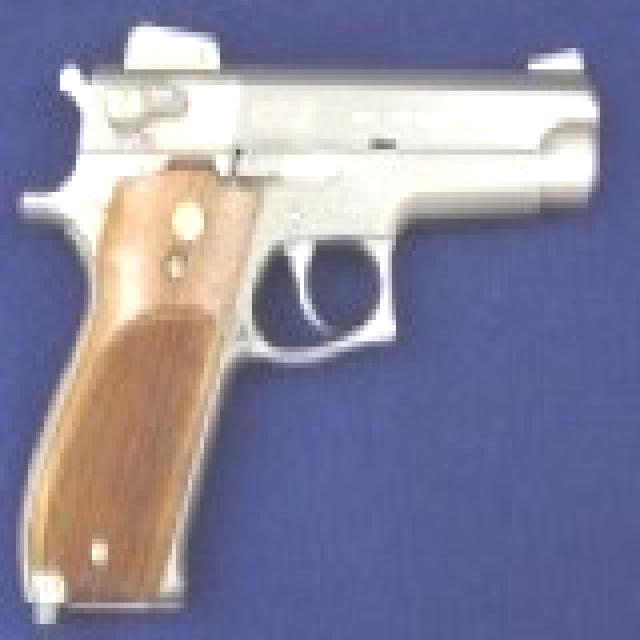pistol: (12, 11, 604, 608)
